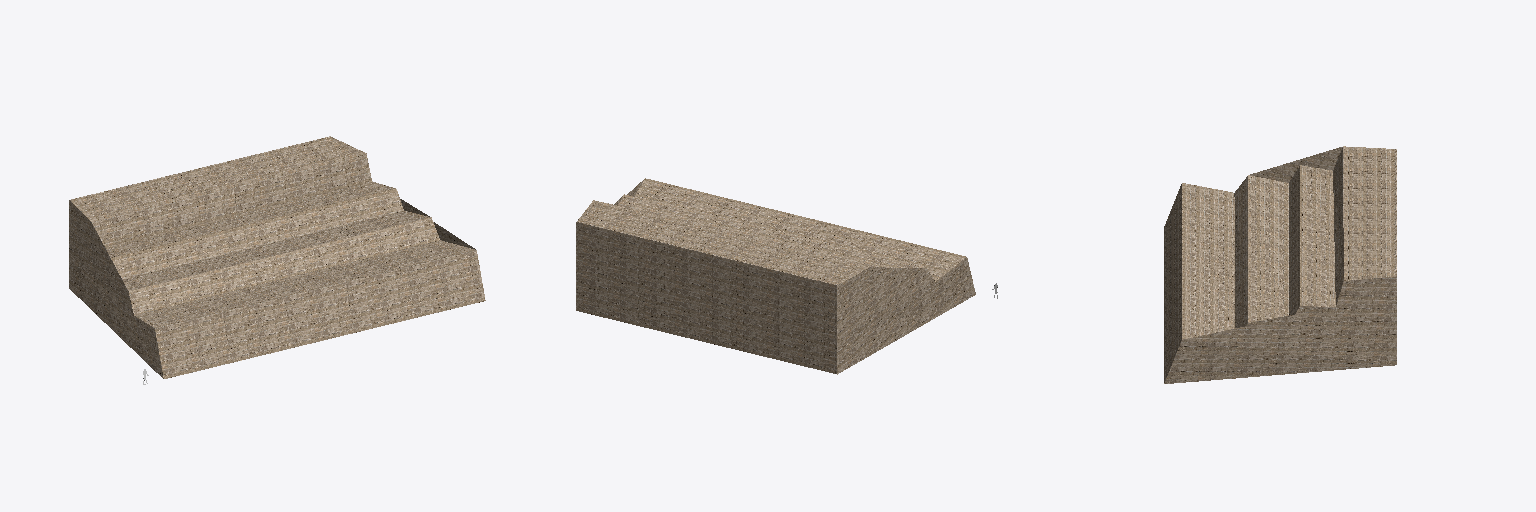
3 views of the same model, side by side, from view 1: azimuth 30°, elevation 25°; view 2: azimuth 150°, elevation 25°; view 3: azimuth 270°, elevation 25° (orthographic).
Visible parts, largest first — view 1: Mesh1 Model; view 2: Mesh1 Model; view 3: Mesh1 Model.
Part boxes in pixels (bbox=[...]): Mesh1 Model: bbox=[69, 136, 485, 378]; Mesh1 Model: bbox=[576, 178, 975, 374]; Mesh1 Model: bbox=[1164, 146, 1396, 383].
Size of the model in its own units: 36.37 by 9 by 21.48.
Materials: 2 (2 with a texture image).